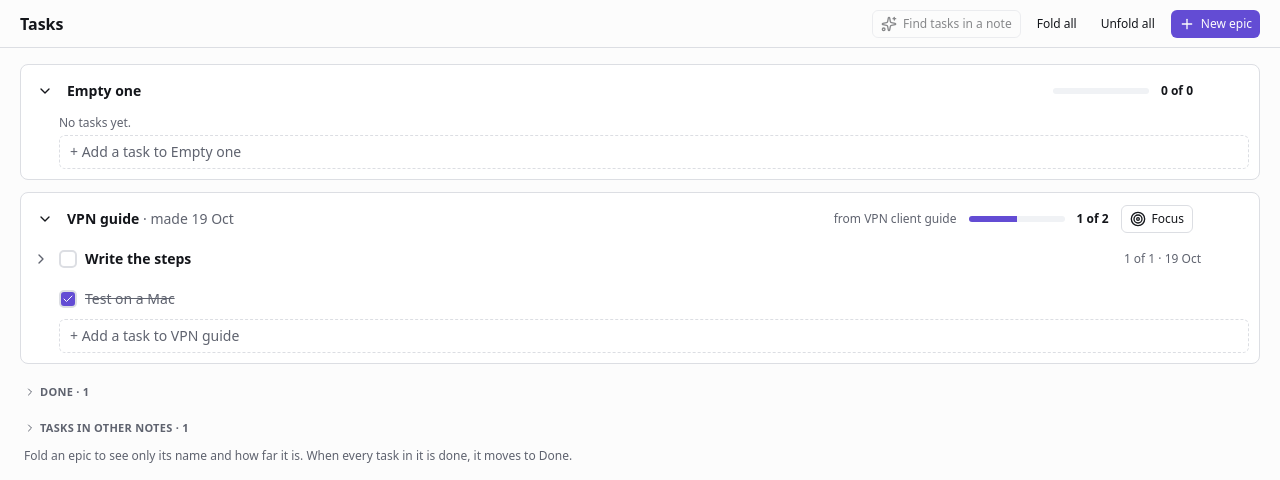
Scenario: TasksView › folds and unfolds every epic at once
Expected: the button "Write the steps" is shown, [85,249,191,269]
Click the button "Fold all" at (1057,24), box [1029,10,1085,38]
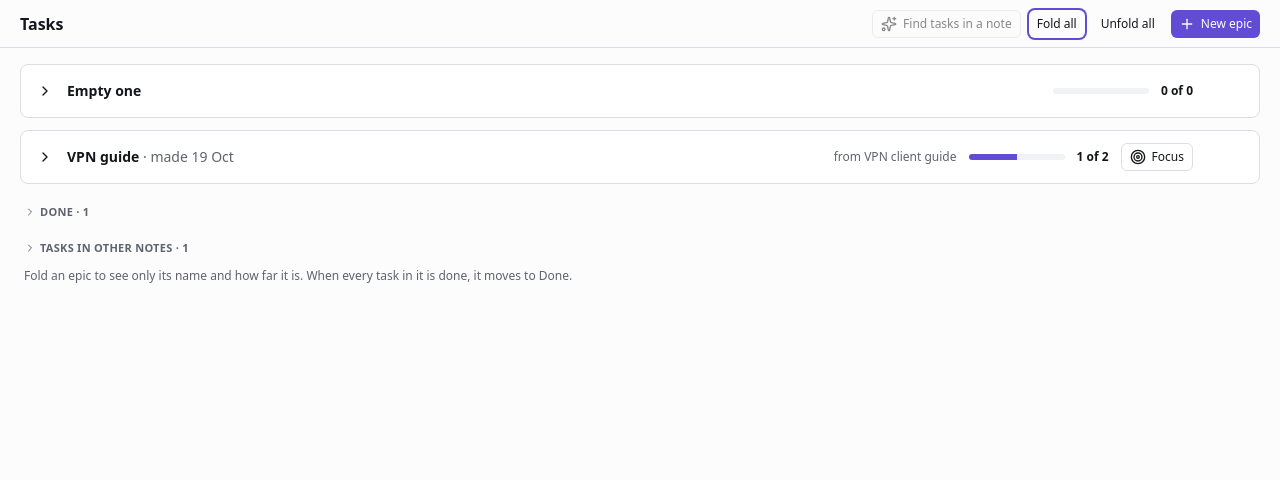
Expected: the button "Write the steps" is gone
Click the button "Unfold all" at (1128,24), box [1093,10,1163,38]
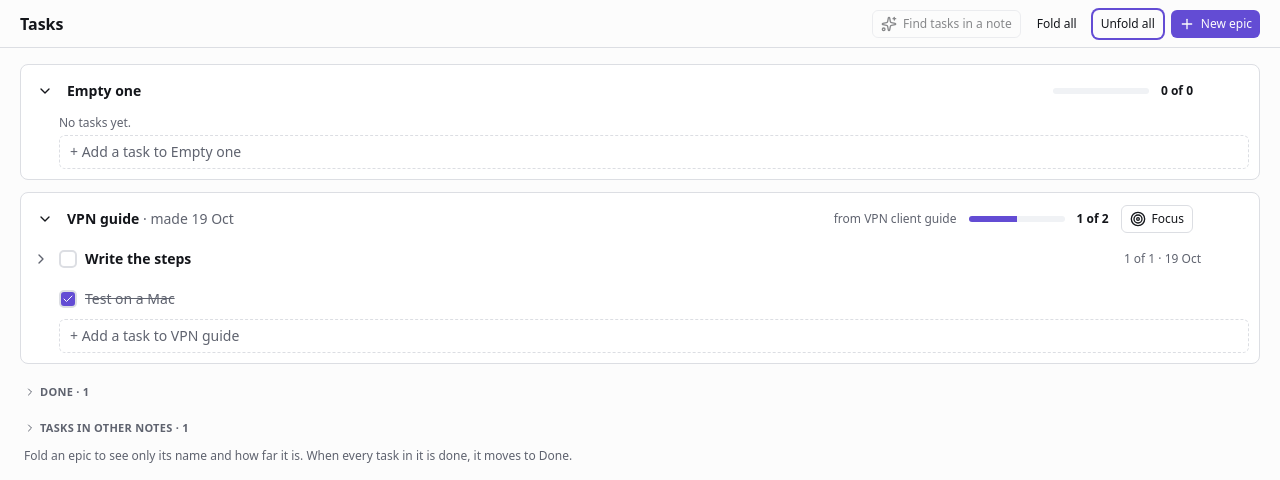
Expected: the button "Write the steps" is shown, [85,249,191,269]
